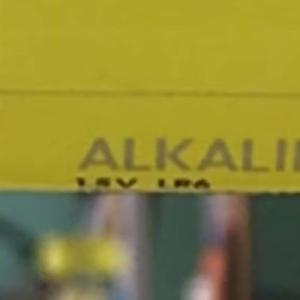ALK: (66, 130, 175, 197)
